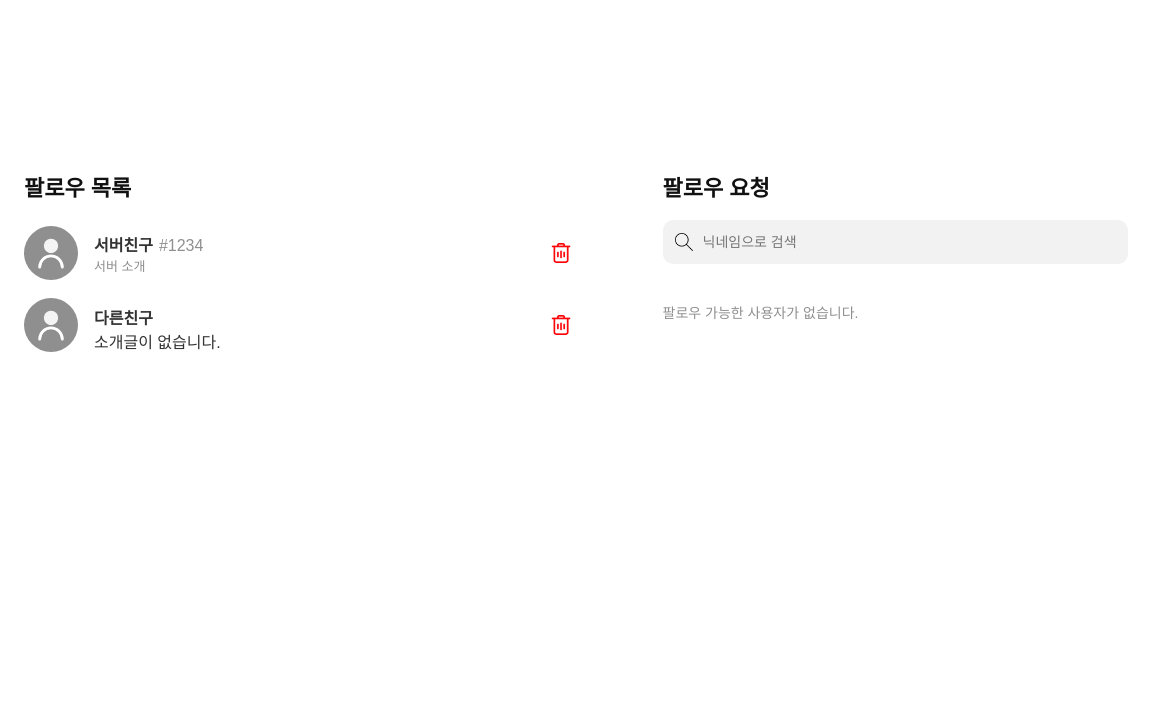
언팔로우 network 실패 시 목록 유지 후 재시도 가능
Expected: the text "서버친구" is shown, [94,232,153,256]
Click the 1st button named "삭제" at (560, 253), box [538,231,582,275]
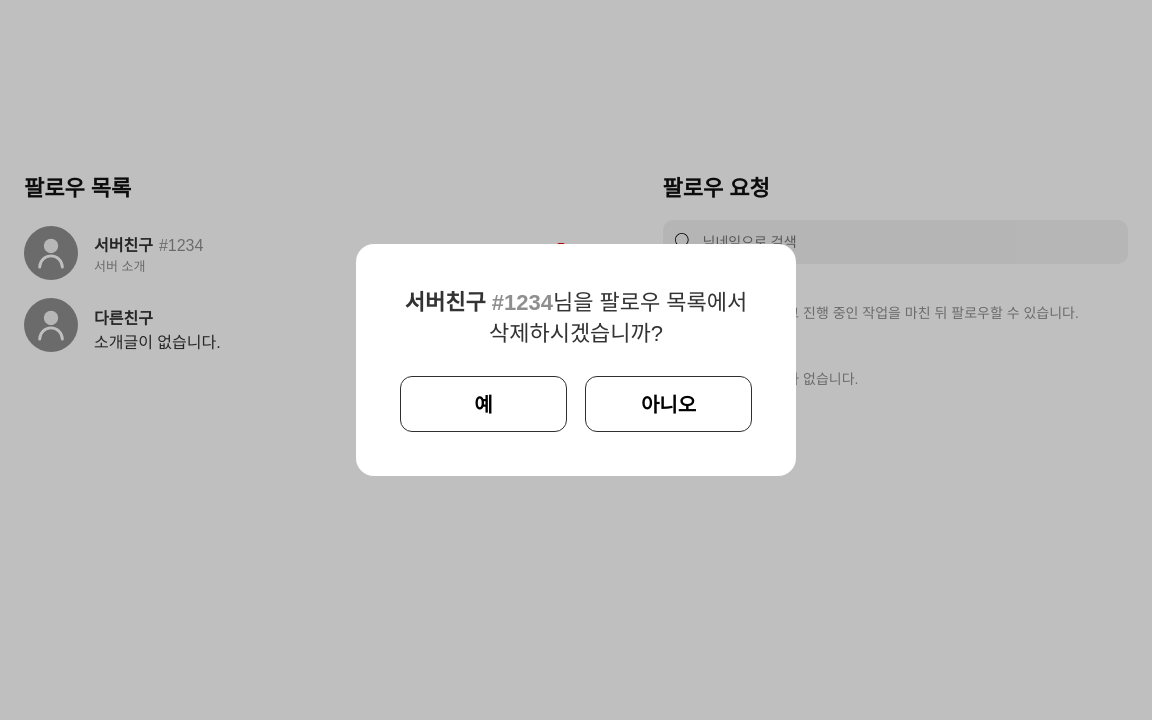
Click the button "예" at (484, 404), box [400,376,567,432]
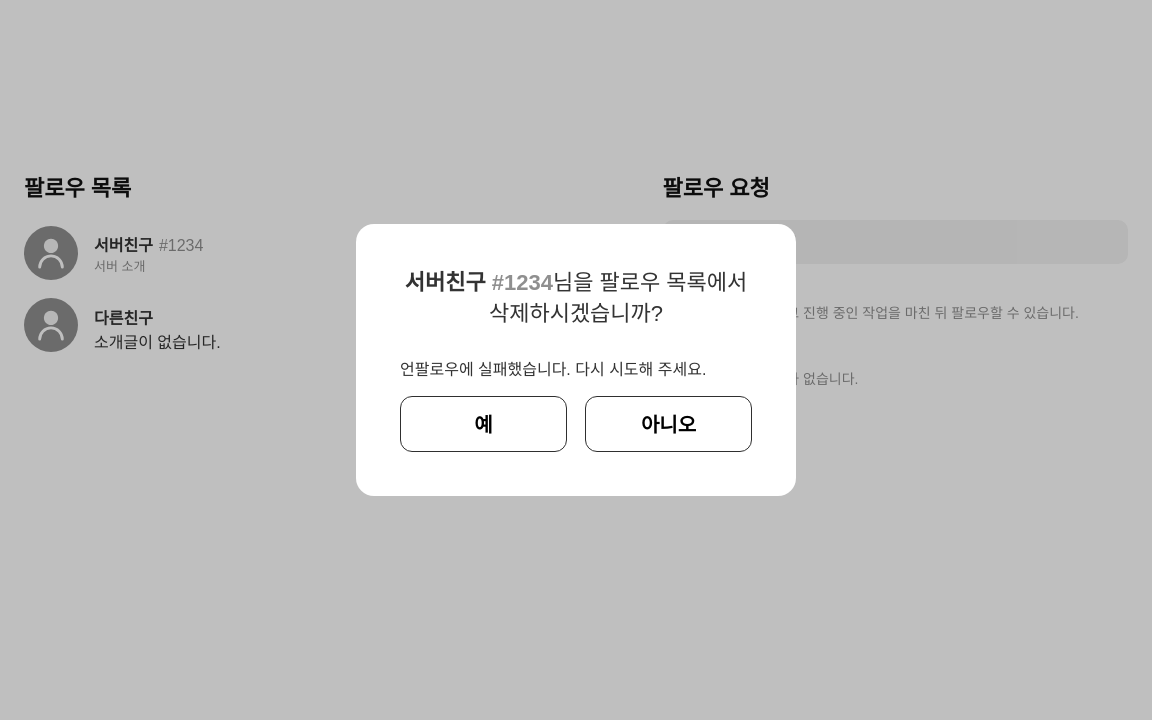
Expected: the text "서버 소개" is shown, [94,259,146,274]
Result: the button "예" is enabled
Result: the message shows "언팔로우에 실패" at [400,361,706,378]
Click the button "예" at (484, 424), box [400,396,567,452]
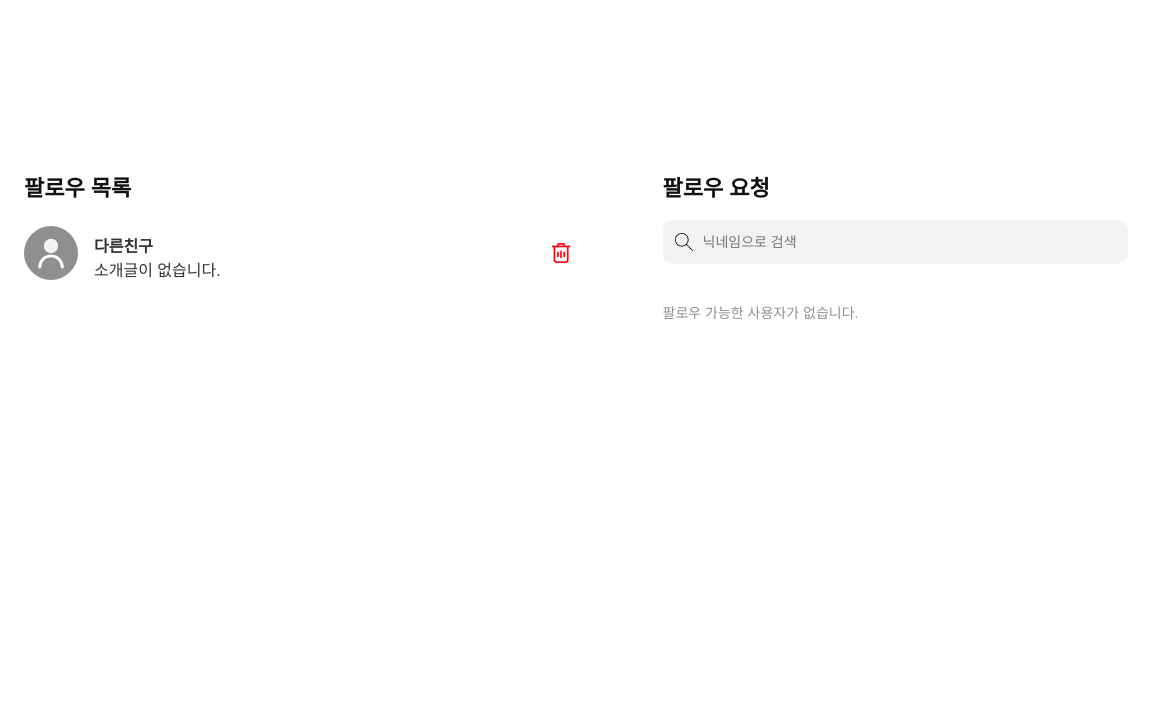
Result: the dialog is gone
Result: the button "서버친구" is gone
